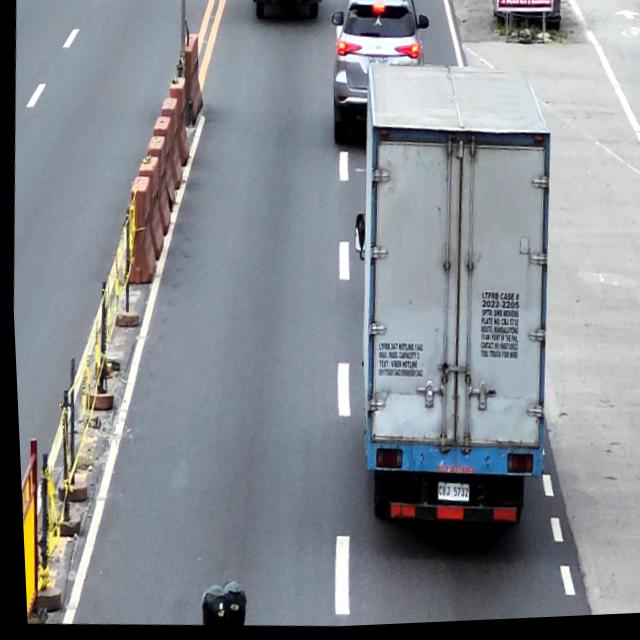Car: (324, 0, 436, 154)
License-Plate: (432, 485, 466, 508)
Truck: (332, 59, 569, 546)
